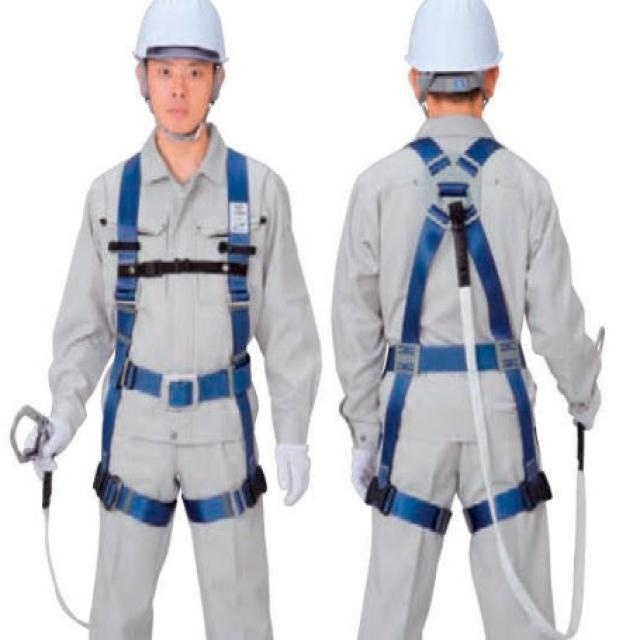Arnes_seguridad: (375, 136, 557, 531), (90, 139, 266, 527)
